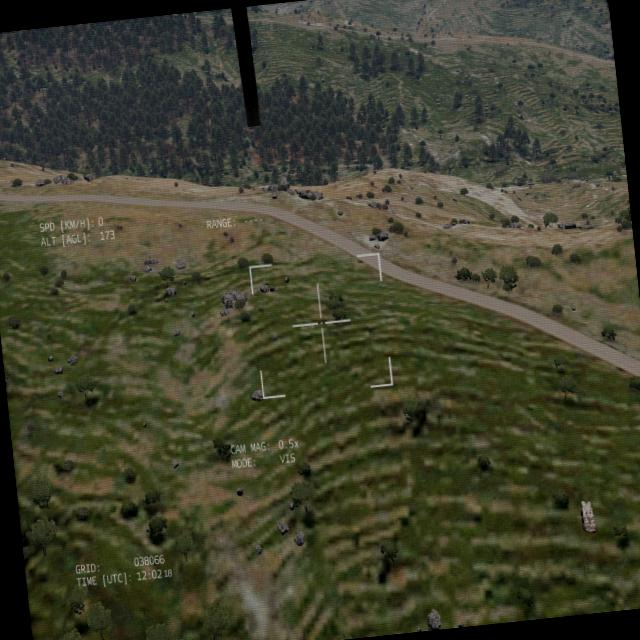apc: (578, 498, 596, 534)
